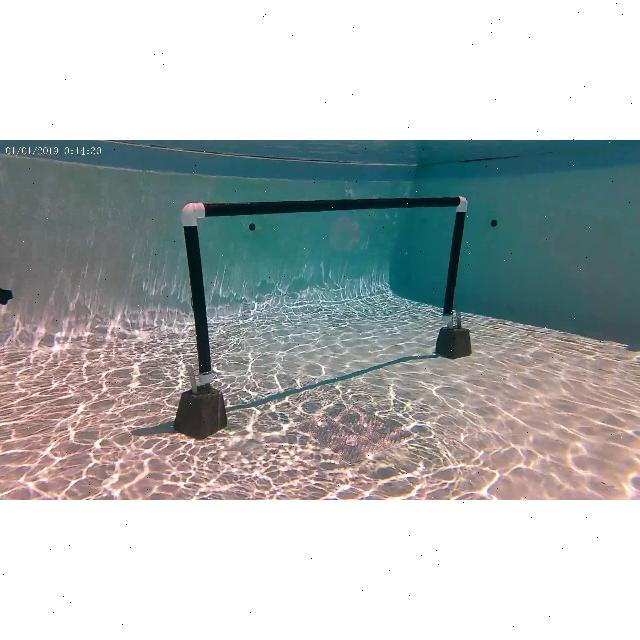prequal gate: (182, 196, 468, 384)
prequal gate leg l: (178, 195, 230, 393)
prequal gate leg r: (437, 194, 467, 330)
